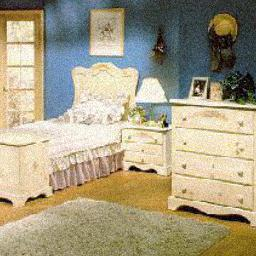Armario: (172, 105, 256, 232)
